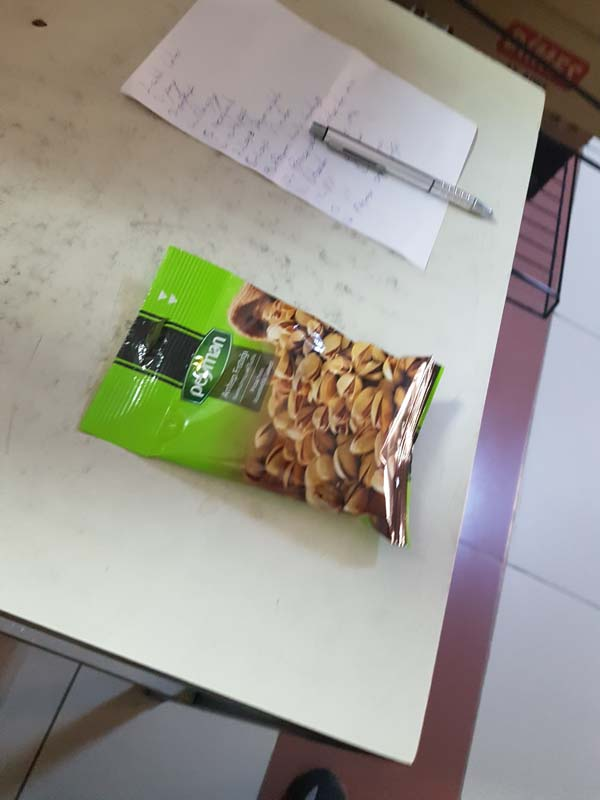antepfistigi: (76, 244, 447, 557)
